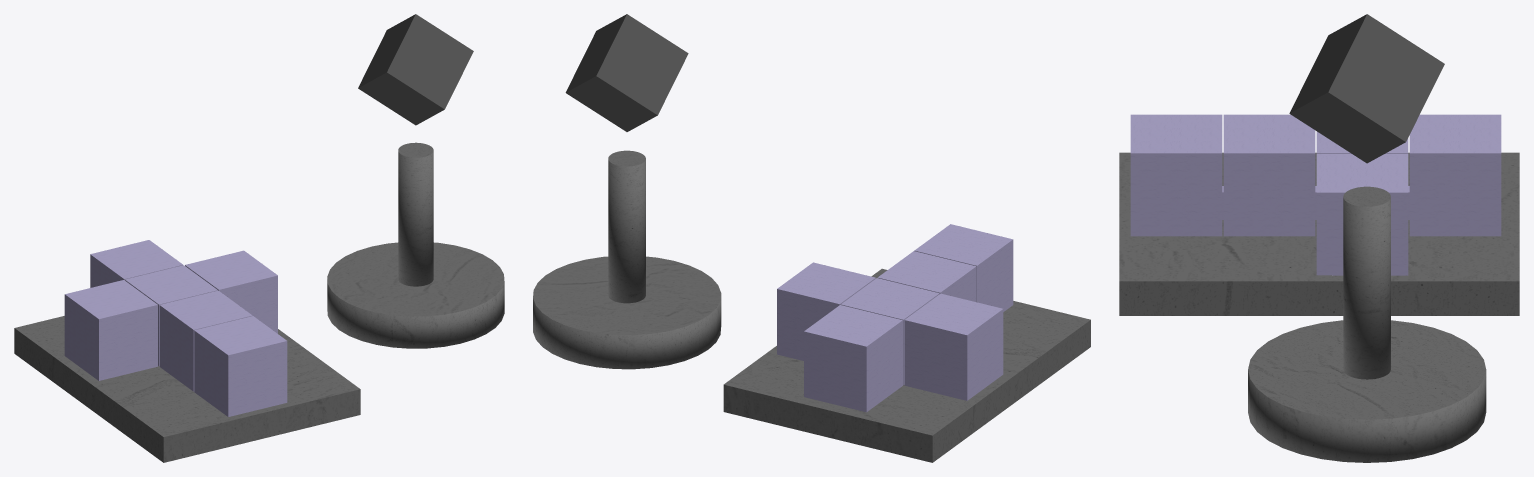
Rendered from Floor Miniature.fbx.
The picture shows the model from 3 angles, left to right: view 1: azimuth 30°, elevation 25°; view 2: azimuth 150°, elevation 25°; view 3: azimuth 270°, elevation 25°; orthographic projection. The views are drawn at different scales.
Visible parts, largest first — view 1: Room6, Cube Figurine, Base, Cube; view 2: Room6, Cube Figurine, Base, Cube; view 3: Room6, Cube Figurine, Base, Cube.
Boxes of the visible parts, x1,y1,x2,y2 form: Room6: (64, 240, 287, 416); Cube Figurine: (327, 142, 504, 348); Base: (14, 316, 360, 462); Cube: (358, 14, 473, 125); Room6: (777, 224, 1013, 412); Cube Figurine: (533, 150, 721, 369); Base: (723, 268, 1090, 462); Cube: (565, 14, 688, 131); Room6: (1130, 114, 1501, 275); Cube Figurine: (1248, 186, 1486, 462); Base: (1119, 152, 1519, 315); Cube: (1289, 14, 1444, 163).
Size of the model in its own units: 3.43 by 2.31 by 2.1.
